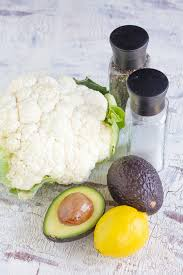aguacate: (101, 152, 170, 223)
